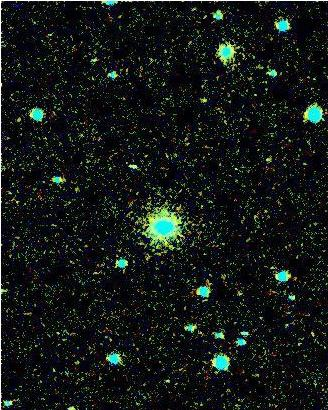star: (184, 88, 214, 118)
